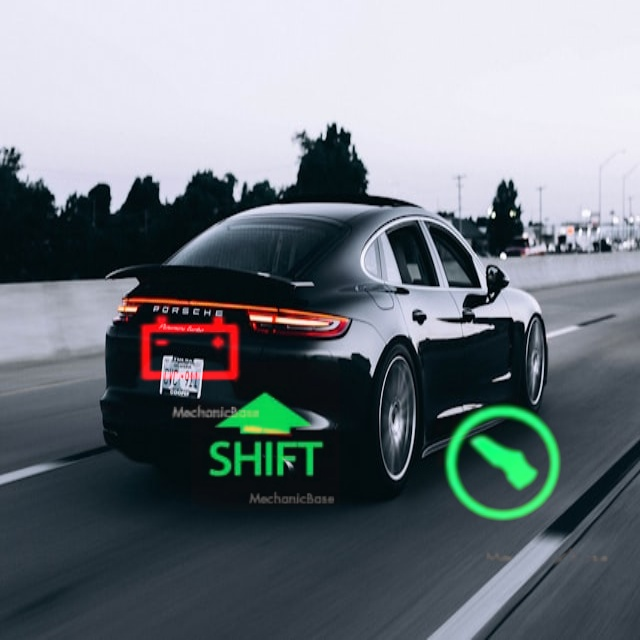symbol: (398, 355, 618, 575), (113, 273, 265, 425), (191, 362, 340, 511)
